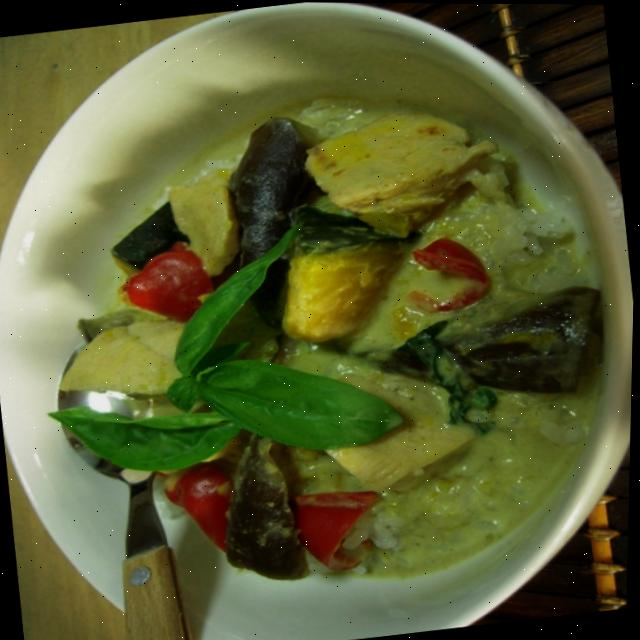熟制海鲜: (0, 1, 640, 640)
